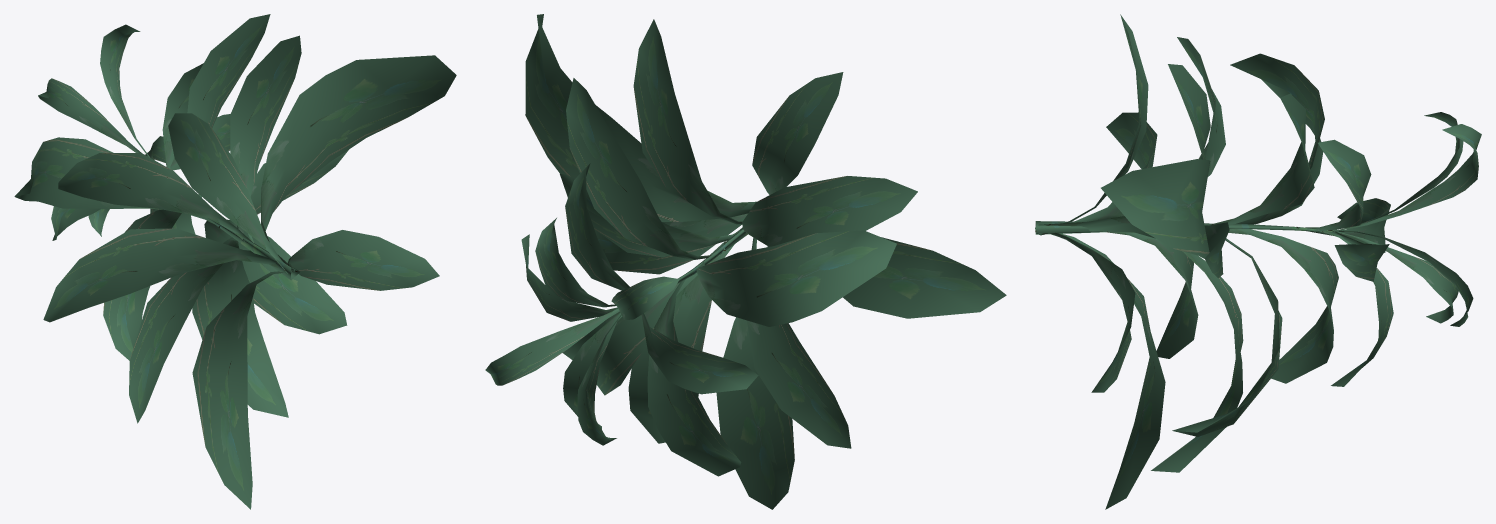
The model's file is Bush_0030.FBX.
3 views of the same model, side by side, from view 1: azimuth 30°, elevation 25°; view 2: azimuth 150°, elevation 25°; view 3: azimuth 270°, elevation 25° (orthographic). The views are drawn at different scales.
Parts seen in each view (by area): view 1: plant2_LOD0; view 2: plant2_LOD0; view 3: plant2_LOD0.
Part boxes in pixels (left/top/right/bottom): plant2_LOD0: left=14, top=14, right=456, bottom=509; plant2_LOD0: left=485, top=14, right=1006, bottom=509; plant2_LOD0: left=1035, top=14, right=1481, bottom=509.
Size of the model in its own units: 112 by 93.48 by 113.
